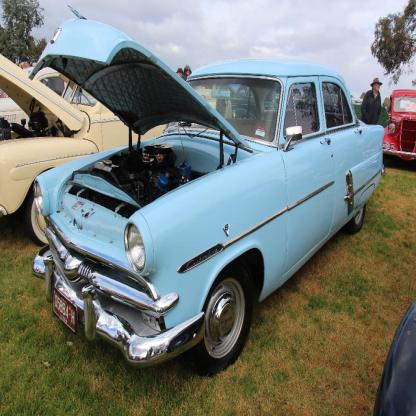Car: (32, 4, 387, 372), (1, 52, 161, 241), (1, 65, 99, 138), (382, 91, 416, 172), (231, 85, 282, 127), (194, 85, 243, 104)
